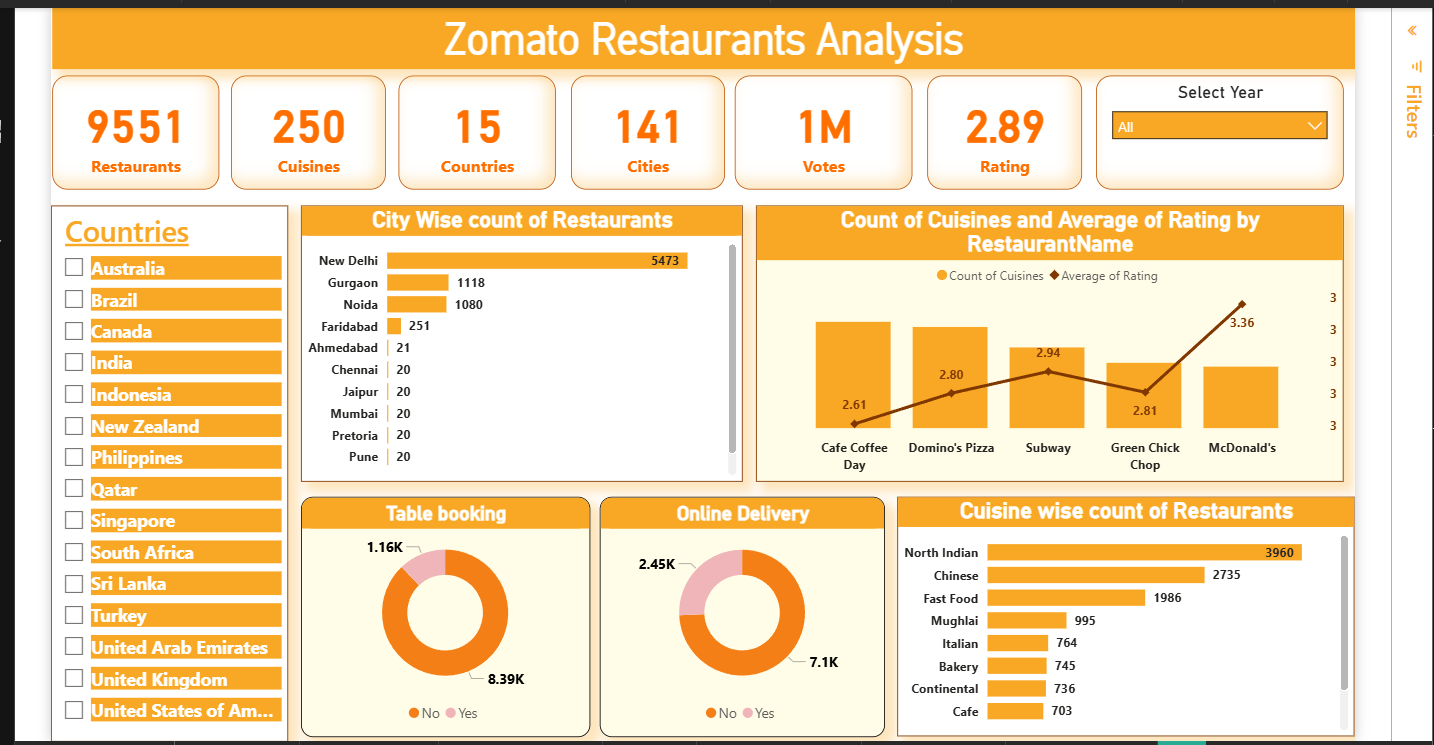

Layout of this report page (visuals, bound fields, positions):
{"tool":"powerbi","page":{"name":"Dashboard","canvas":[1280,720],"ordinal":0},"visuals":[{"type":"slicer","fields":{"Values":["Sheet2.country name"]},"box":[0,194.2,232.6,526.7],"z":0},{"type":"card","fields":{"Values":["CountNonNull(Sheet2.countryID)"]},"box":[340.7,66.3,154.7,111.6],"z":2000},{"type":"card","fields":{"Values":["Count(Sheet1.Cuisines)"]},"box":[176.7,66.3,152.3,111.6],"z":3000},{"type":"card","fields":{"Values":["Count(Sheet1.RestaurantID)"]},"box":[1.2,66.3,164,111.6],"z":4000},{"type":"card","fields":{"Values":["Count(Sheet1.City)"]},"box":[510.5,66.3,151.2,111.6],"z":5000},{"type":"textbox","box":[1.5,0,1279.2,60.3],"z":6000},{"type":"donutChart","title":"Table booking ","fields":{"Category":["cuisines copy.Has_Table_booking"],"Y":["CountNonNull(cuisines copy.Has_Table_booking)"]},"box":[245.3,480.2,283.7,236],"z":7000},{"type":"donutChart","title":"Online Delivery","fields":{"Category":["cuisines copy.Has_Online_delivery"],"Y":["CountNonNull(cuisines copy.Has_Online_delivery)"]},"box":[538.4,480.2,280.2,236],"z":8000},{"type":"clusteredBarChart","title":"Cuisine wise count of Restaurants","fields":{"Category":["Sheet1.Column"],"Y":["CountNonNull(Sheet1.Cuisines)"]},"box":[830.7,479.8,449.1,235.6],"z":9000},{"type":"clusteredBarChart","title":"City Wise count of Restaurants","fields":{"Category":["cuisines copy.City"],"Y":["CountNonNull(cuisines copy.RestaurantID)"]},"box":[245.3,194.2,433.7,270.9],"z":10000},{"type":"lineStackedColumnComboChart","fields":{"Category":["cuisines copy.RestaurantName"],"Y":["CountNonNull(cuisines copy.Cuisines)"],"Y2":["Avg(cuisines copy.Rating)"]},"box":[691.9,194.2,576.7,270.9],"z":11000},{"type":"slicer","title":"Select Year","fields":{"Values":["cuisines copy.new datekey.Variation.Date Hierarchy.Year","cuisines copy.new datekey.Variation.Date Hierarchy.Quarter","cuisines copy.new datekey.Variation.Date Hierarchy.Month","cuisines copy.new datekey.Variation.Date Hierarchy.Day"]},"box":[1025.6,66.3,243,111.6],"z":13000},{"type":"card","fields":{"Values":["Sum(cuisines copy.Votes)"]},"box":[670.9,66.3,174.4,111.6],"z":14000},{"type":"card","fields":{"Values":["Avg(cuisines copy.Rating)"]},"box":[860.5,66.3,152.3,111.6],"z":15000}]}

Visuals, with their boxes on the page's 1280x720 design canvas (x1, y1, x2, y2). These are canvas units, not pixel positions in the 1434x745 screenshot, which may show the page scaled, cropped or inside an application window:
slicer - Sheet2.country name: l=0, t=194, r=233, b=721
card - CountNonNull(Sheet2.countryID): l=341, t=66, r=495, b=178
card - Count(Sheet1.Cuisines): l=177, t=66, r=329, b=178
card - Count(Sheet1.RestaurantID): l=1, t=66, r=165, b=178
card - Count(Sheet1.City): l=510, t=66, r=662, b=178
textbox: l=2, t=0, r=1281, b=60
"Table booking " donutChart: l=245, t=480, r=529, b=716
"Online Delivery" donutChart: l=538, t=480, r=819, b=716
"Cuisine wise count of Restaurants" clusteredBarChart: l=831, t=480, r=1280, b=715
"City Wise count of Restaurants" clusteredBarChart: l=245, t=194, r=679, b=465
lineStackedColumnComboChart - cuisines copy.RestaurantName x CountNonNull(cuisines copy.Cuisines): l=692, t=194, r=1269, b=465
"Select Year" slicer: l=1026, t=66, r=1269, b=178
card - Sum(cuisines copy.Votes): l=671, t=66, r=845, b=178
card - Avg(cuisines copy.Rating): l=860, t=66, r=1013, b=178
